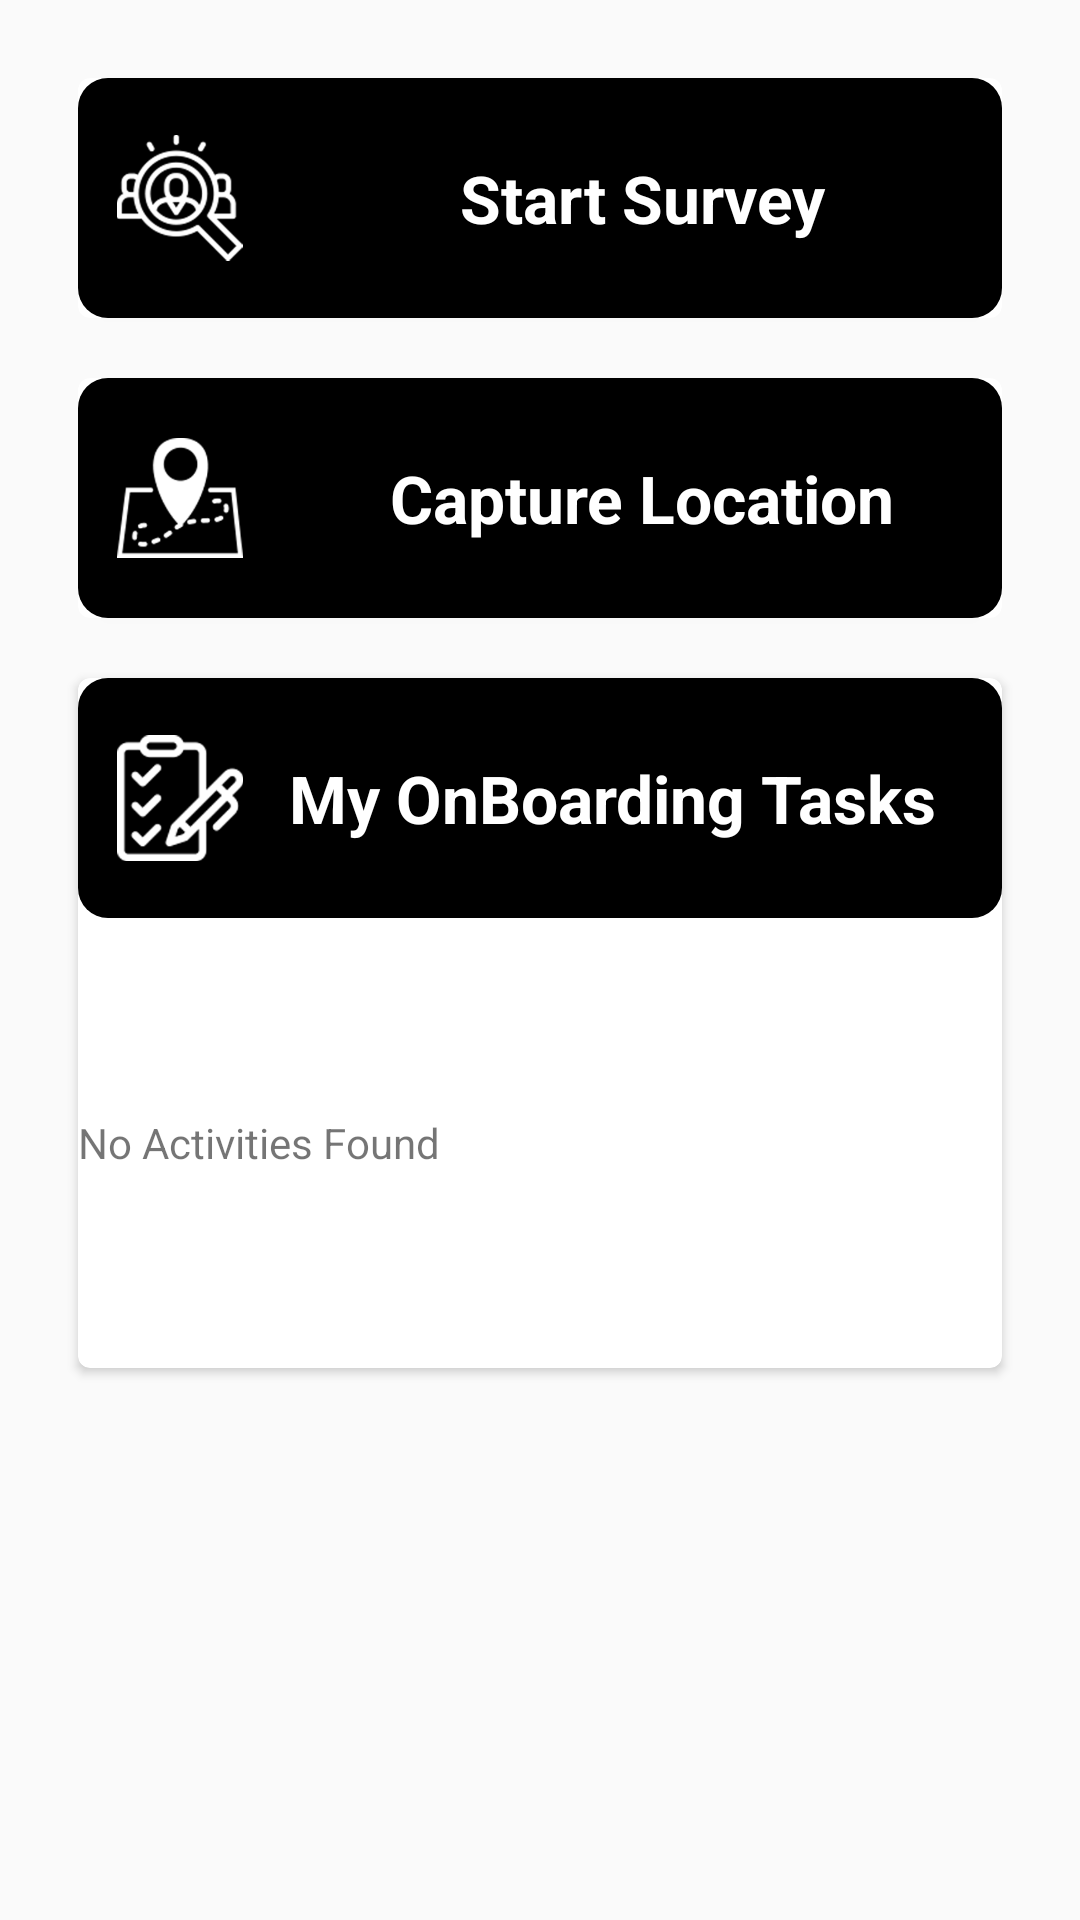

Screen size 1080px×1920px. Icon name, then its box in pixels as (x1, y1, x2, y2):
note: (117, 735, 243, 861)
search: (117, 135, 243, 261)
